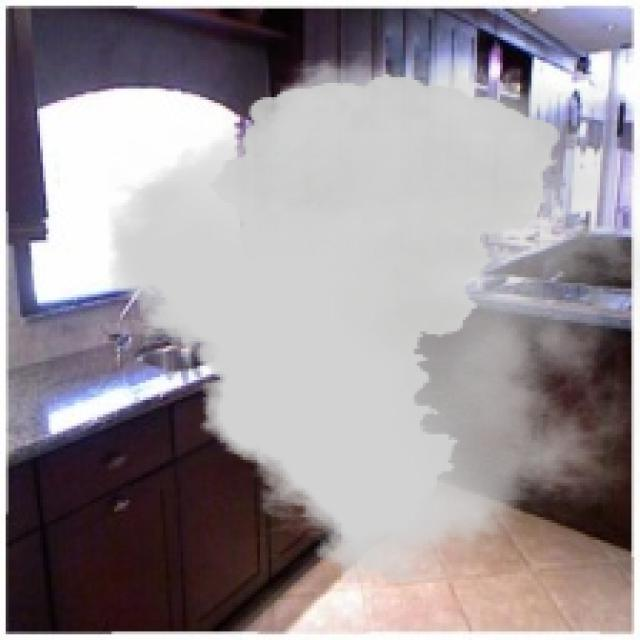smoke: (109, 51, 637, 586)
